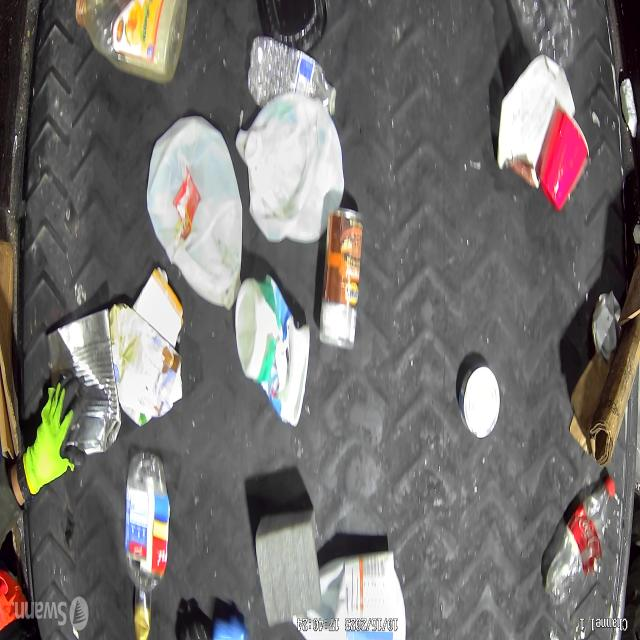can: (52, 336, 116, 451)
milk_jug: (143, 128, 244, 317), (241, 114, 340, 245)
plastic_bottle: (545, 474, 614, 608), (248, 42, 336, 116)
